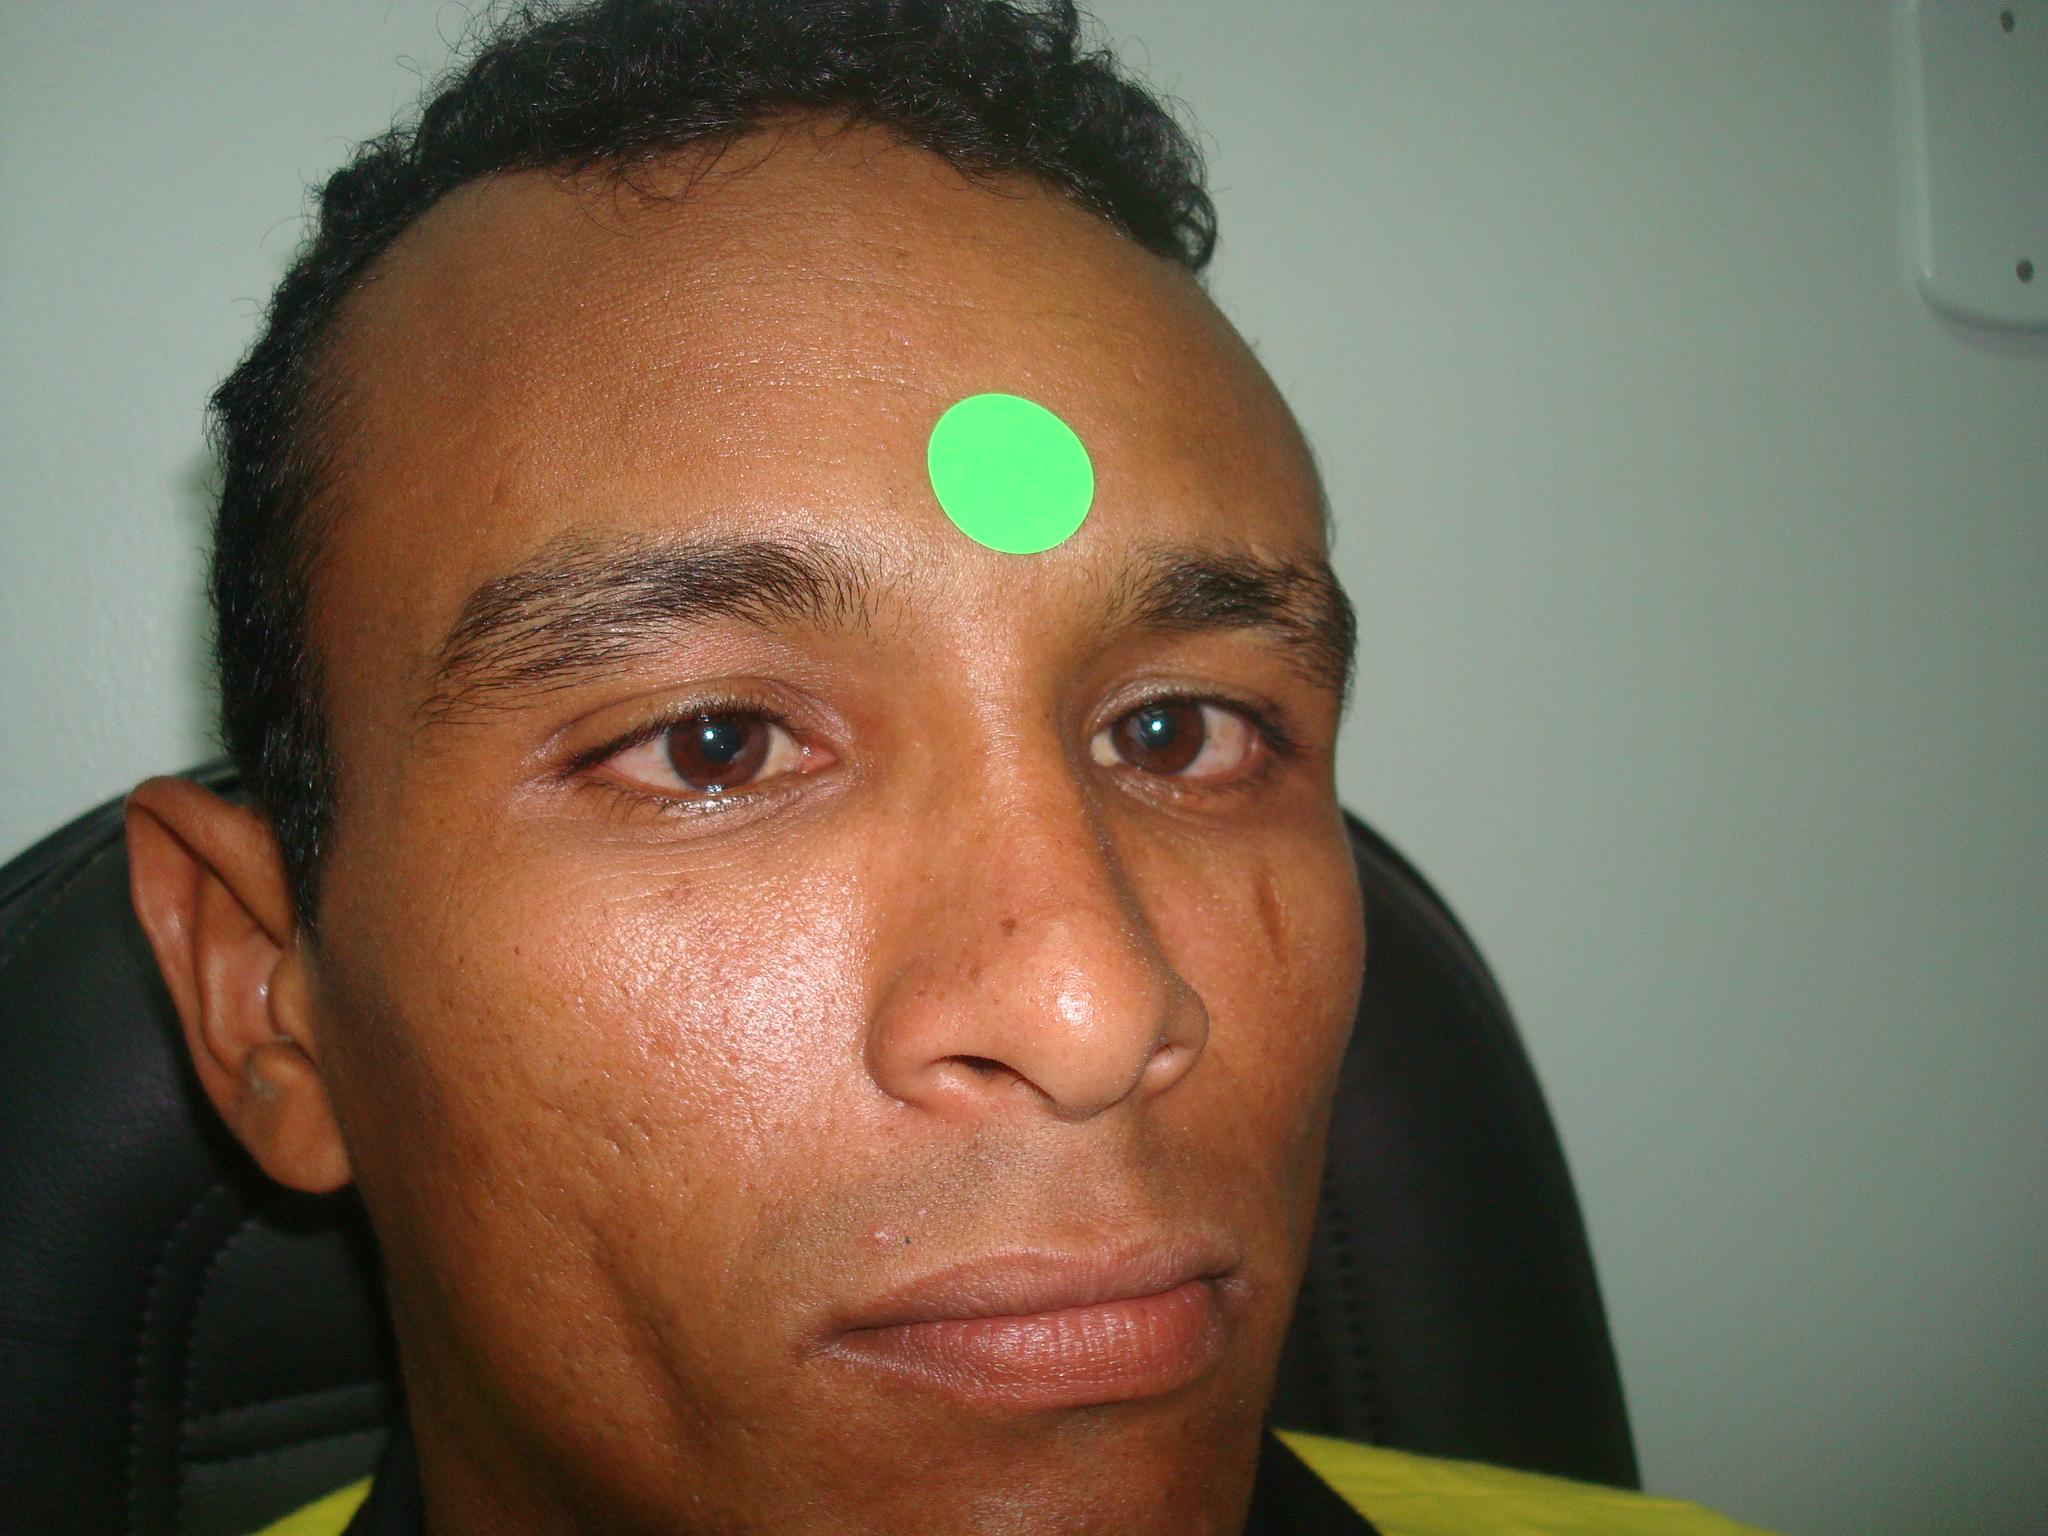flash: (1150, 720, 1164, 733), (705, 729, 716, 742)
limbo: (672, 697, 769, 791), (1105, 682, 1195, 766)
